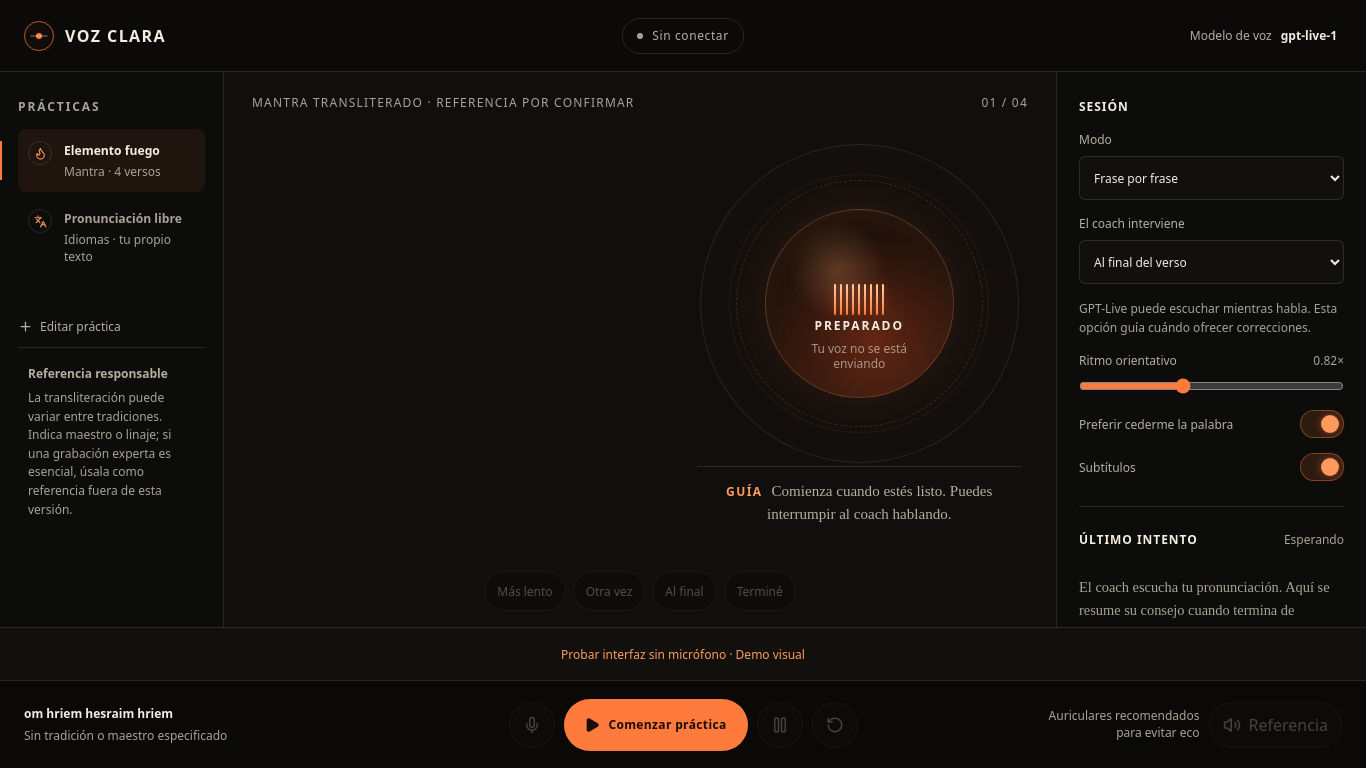
Scenario: VoiceStudio › reports missing server configuration immediately instead of connecting
Click the button "Comenzar práctica".
click(656, 724)  # box [564,698,748,750]
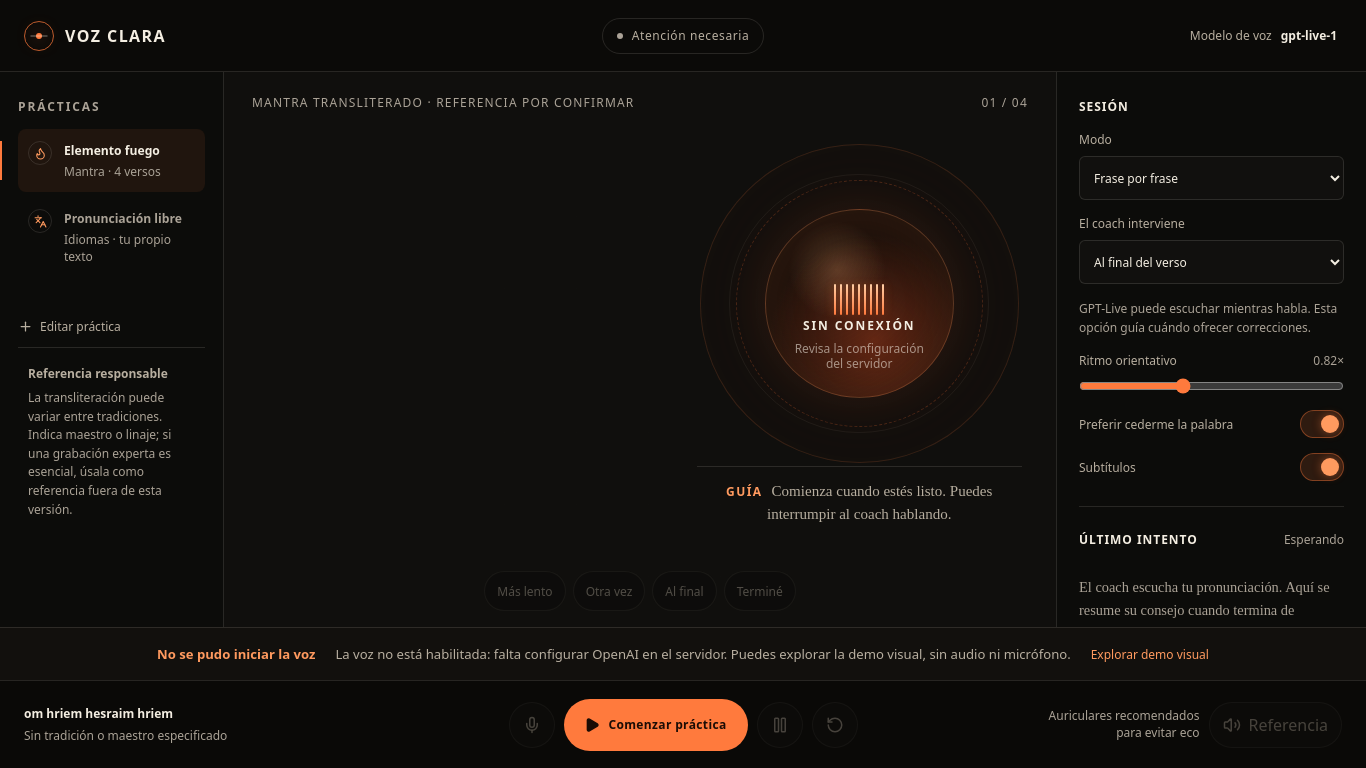
Expected: the text "Conectando" is not shown
Result: the message that starts with "No se pudo iniciar la voz" shows "falta configurar OpenAI" at [336,645,1071,663]
Click the button "Explorar demo visual".
click(1150, 654)  # box [1091,636,1209,672]
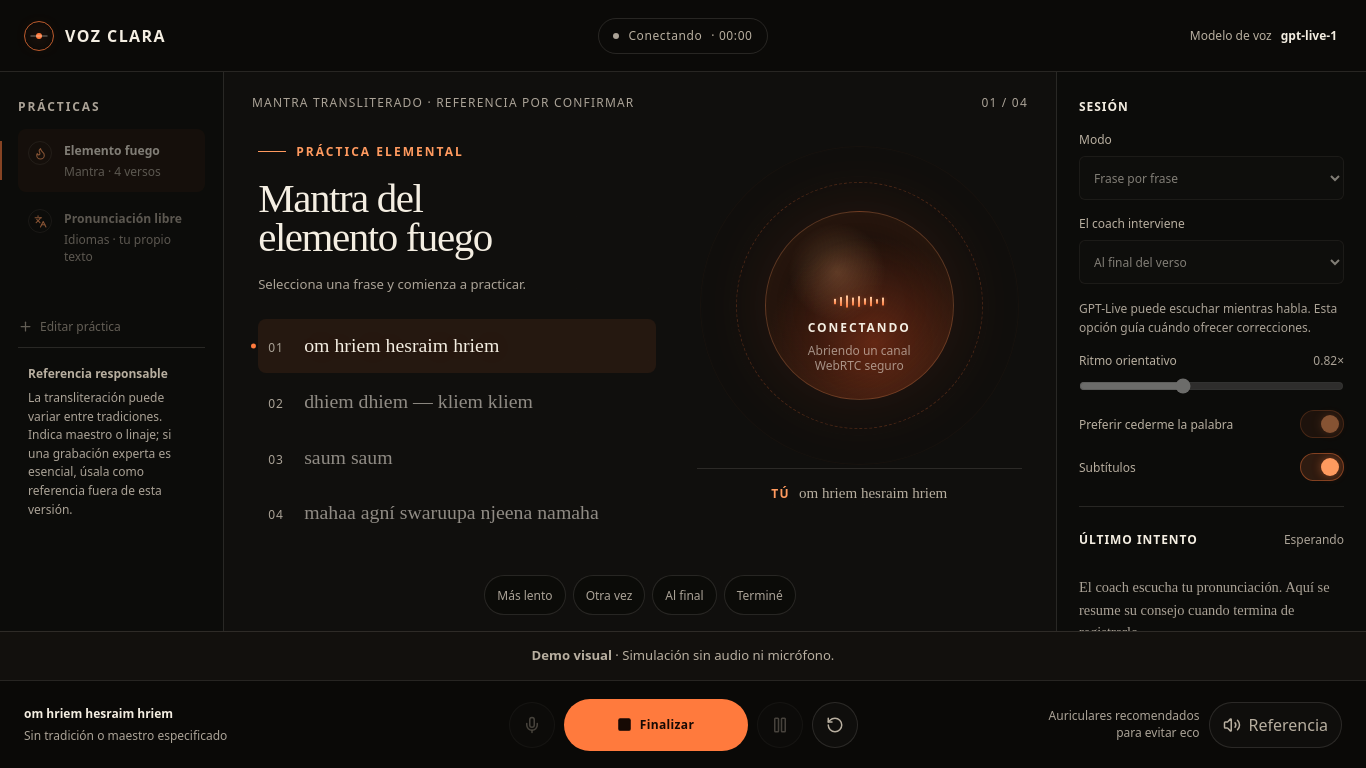
Result: the text "Demo visual · Simulación sin audio ni micrófono." is shown at [532,646,834,664]
